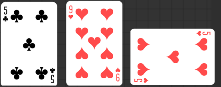5H: (133, 76, 149, 83), (195, 30, 211, 37)
9H: (67, 4, 74, 20)
